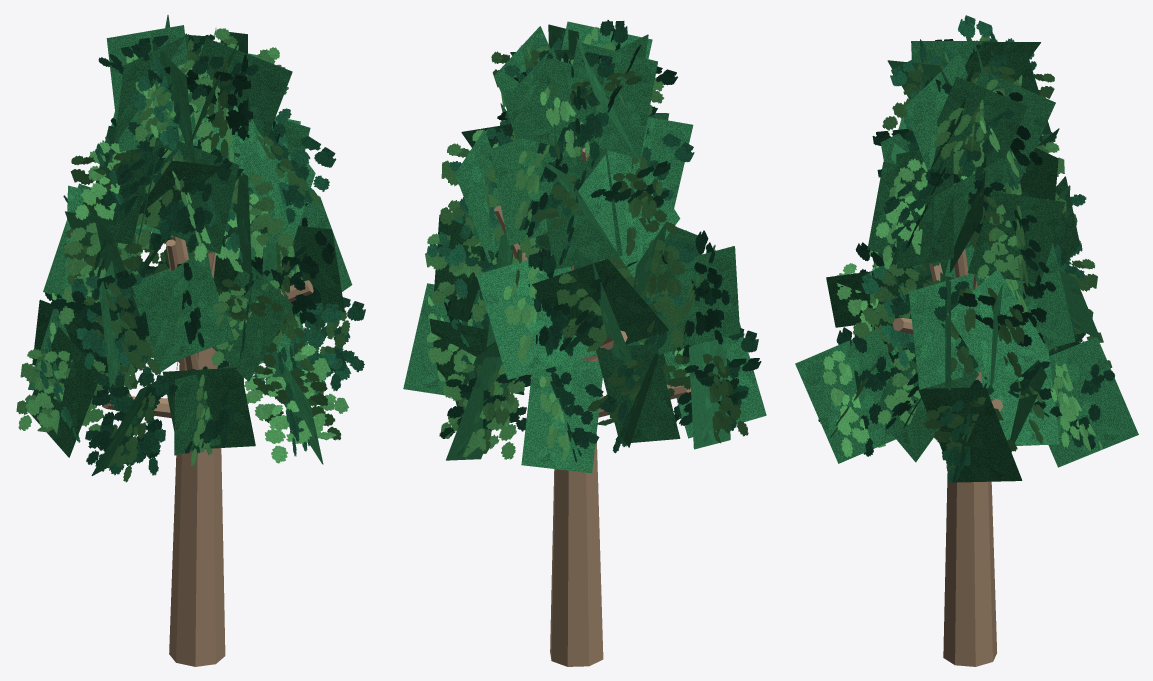
The model's file is Pine.glb.
The picture shows the model from 3 angles, left to right: view 1: azimuth 30°, elevation 25°; view 2: azimuth 150°, elevation 25°; view 3: azimuth 270°, elevation 25°; orthographic projection. The views are drawn at different scales.
Visible parts, largest first — view 1: Trunk, FoliageCard_16_03, FoliageCard_17_02, FoliageCard_08_00, FoliageCard_05_02, FoliageCard_34_03, FoliageCard_07_03, FoliageCard_25_03, FoliageCard_16_00, FoliageCard_31_03, FoliageCard_27_01, FoliageCard_06_03 (+62 smaller); view 2: Trunk, FoliageCard_12_01, FoliageCard_03_01, FoliageCard_13_00, FoliageCard_31_00, FoliageCard_23_02, FoliageCard_04_00, FoliageCard_15_01, FoliageCard_22_00, FoliageCard_21_01, FoliageCard_30_01, FoliageCard_20_02 (+55 smaller); view 3: Trunk, FoliageCard_08_02, FoliageCard_02_02, FoliageCard_00_01, FoliageCard_10_03, FoliageCard_20_02, FoliageCard_27_01, FoliageCard_19_03, FoliageCard_35_02, FoliageCard_11_02, FoliageCard_34_03, FoliageCard_09_01 (+49 smaller).
Boxes of the visible parts, x1,y1,x2,y2 form: Trunk: (169, 347, 225, 666); FoliageCard_16_03: (132, 257, 234, 365); FoliageCard_17_02: (212, 266, 293, 381); FoliageCard_08_00: (244, 345, 348, 463); FoliageCard_05_02: (30, 326, 100, 457); FoliageCard_34_03: (192, 38, 292, 157); FoliageCard_07_03: (162, 367, 255, 448); FoliageCard_25_03: (143, 132, 239, 254); FoliageCard_16_00: (142, 252, 210, 371); FoliageCard_31_03: (106, 25, 196, 151); FoliageCard_27_01: (237, 119, 315, 242); FoliageCard_06_03: (95, 372, 169, 475); Trunk: (550, 359, 603, 666); FoliageCard_12_01: (476, 253, 596, 379); FoliageCard_03_01: (521, 359, 602, 473); FoliageCard_13_00: (532, 258, 668, 355); FoliageCard_31_00: (573, 42, 657, 158); FoliageCard_23_02: (578, 150, 680, 276); FoliageCard_04_00: (596, 343, 680, 443); FoliageCard_15_01: (650, 246, 739, 354); FoliageCard_22_00: (546, 148, 622, 269); FoliageCard_21_01: (490, 138, 569, 245); FoliageCard_30_01: (514, 58, 605, 152); FoliageCard_20_02: (455, 130, 501, 262); Trunk: (943, 372, 997, 666); FoliageCard_08_02: (795, 329, 895, 463); FoliageCard_02_02: (1048, 337, 1138, 467); FoliageCard_00_01: (918, 387, 1022, 482); FoliageCard_10_03: (947, 270, 1048, 395); FoliageCard_20_02: (967, 191, 1065, 283); FoliageCard_27_01: (896, 146, 953, 268); FoliageCard_19_03: (908, 273, 980, 389); FoliageCard_35_02: (937, 77, 1027, 177); FoliageCard_11_02: (975, 243, 1075, 348); FoliageCard_34_03: (904, 53, 967, 170); FoliageCard_09_01: (878, 360, 978, 462).
Size of the model in its own units: 4.73 by 8.27 by 4.21.
5 materials, 3 textured.
